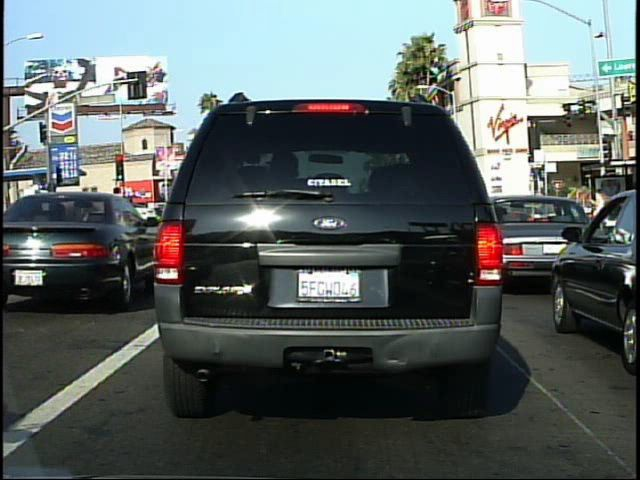person: (588, 184, 609, 242)
